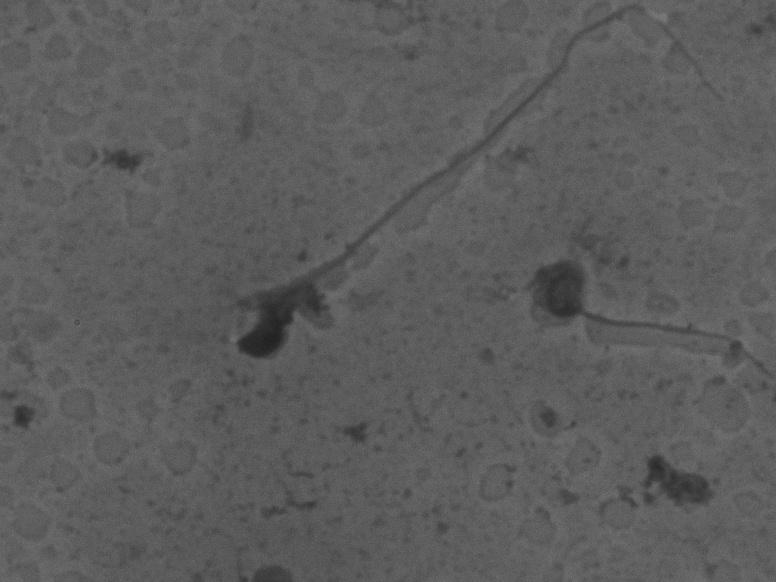Abnormal: (167, 6, 745, 405)
